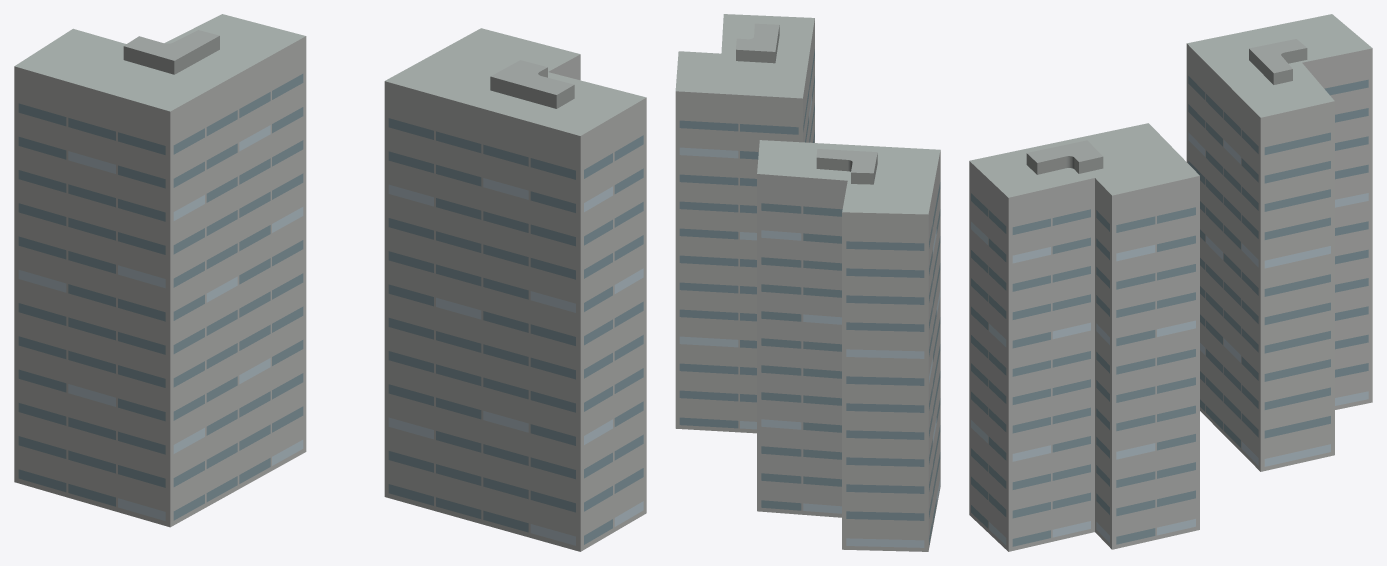
The model's file is apt-a13609001.glb.
The picture shows the model from 3 angles, left to right: view 1: azimuth 30°, elevation 25°; view 2: azimuth 150°, elevation 25°; view 3: azimuth 270°, elevation 25°; orthographic projection. The views are drawn at different scales.
Parts seen in each view (by area): view 1: apt-a13609001; view 2: apt-a13609001; view 3: apt-a13609001.
Boxes of the visible parts, <box> form: apt-a13609001: <box>14,14,646,551</box>; apt-a13609001: <box>675,14,940,551</box>; apt-a13609001: <box>969,14,1372,551</box>.
Bounding box in the file's own units: 79.71 × 74 × 73.95.
